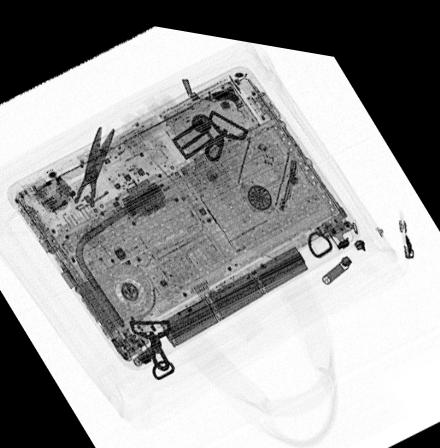Scissors: (40, 113, 120, 247)
